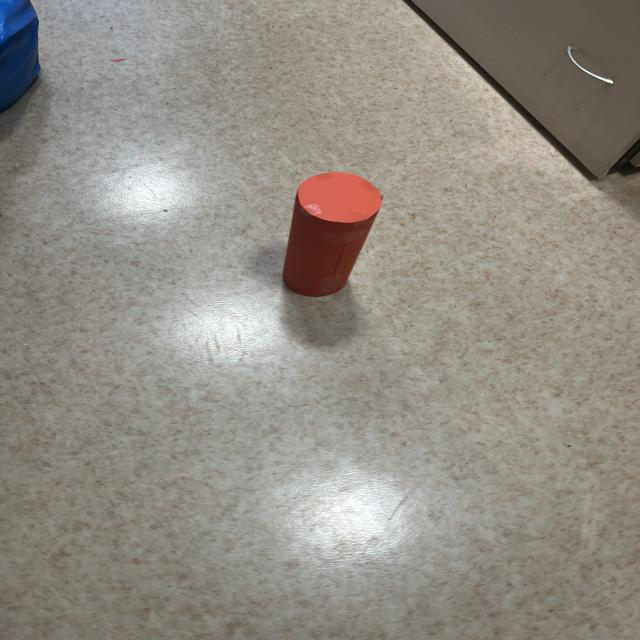przeszkoda: (283, 172, 382, 297)
